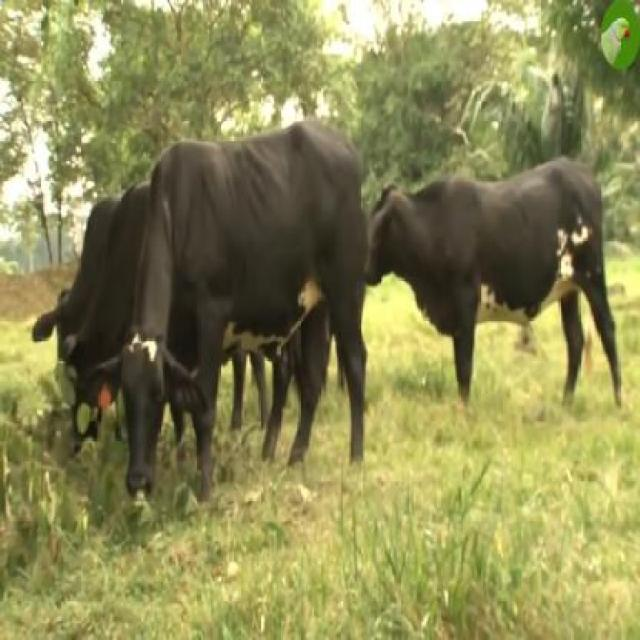Cow: (120, 123, 368, 502), (368, 157, 623, 429)
